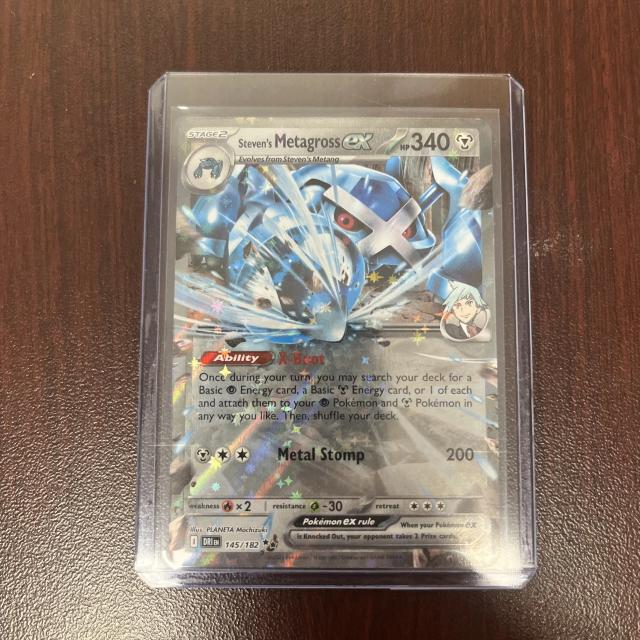Card: (166, 115, 507, 574)
Name: (236, 129, 376, 155)
